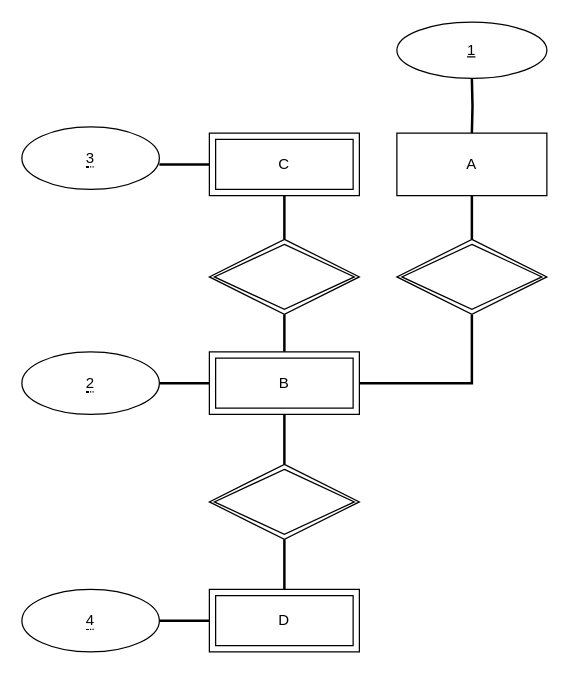
This 569x674 diagram has some shape labels left out. Here are the shapes that lost their labels. From the top down, the box of each, then its label:
(208, 238, 359, 314): BC
(396, 238, 547, 314): AB
(208, 463, 359, 539): BD
